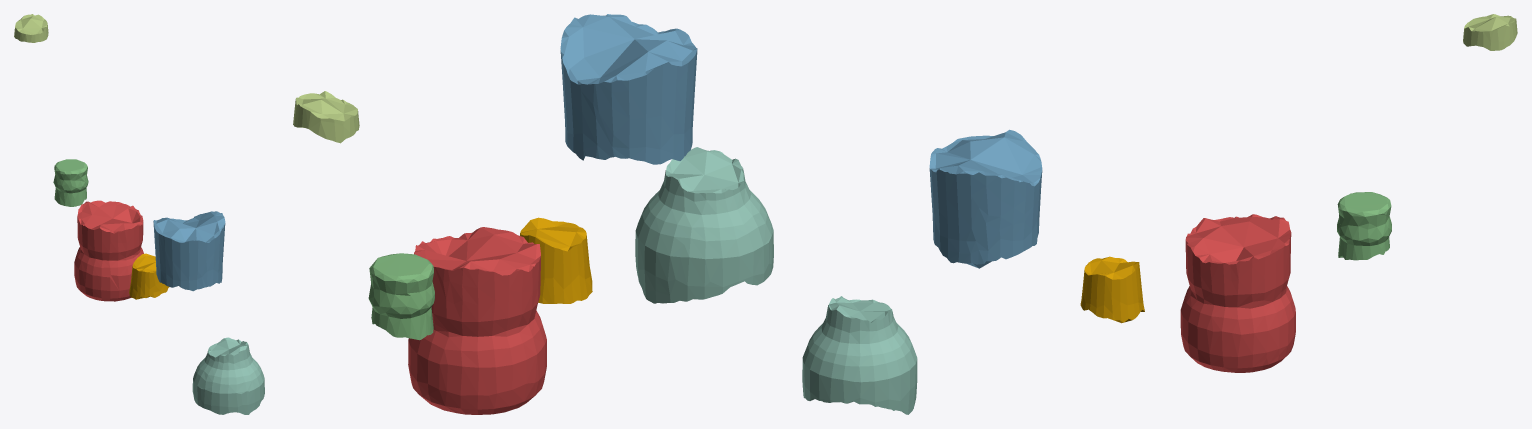
Rendered from fractured_25_6pcs_transformed.glb.
3 renders of one model, left to right at view 1: azimuth 30°, elevation 25°; view 2: azimuth 150°, elevation 25°; view 3: azimuth 270°, elevation 25°, orthographic. The views are drawn at different scales.
Parts seen in each view (by area): view 1: piece_1.obj, piece_2.obj, piece_4.obj, piece_3.obj, piece_0.obj, piece_5.obj; view 2: piece_1.obj, piece_2.obj, piece_4.obj, piece_3.obj, piece_0.obj, piece_5.obj; view 3: piece_1.obj, piece_2.obj, piece_4.obj, piece_0.obj, piece_3.obj, piece_5.obj.
Part boxes in pixels (bbox=[...]): piece_1.obj: bbox=[74, 200, 143, 301]; piece_2.obj: bbox=[153, 211, 225, 291]; piece_4.obj: bbox=[192, 337, 264, 414]; piece_3.obj: bbox=[53, 159, 88, 206]; piece_0.obj: bbox=[129, 253, 169, 299]; piece_5.obj: bbox=[14, 14, 48, 42]; piece_1.obj: bbox=[408, 227, 546, 414]; piece_2.obj: bbox=[560, 14, 697, 164]; piece_4.obj: bbox=[635, 147, 773, 303]; piece_3.obj: bbox=[368, 253, 434, 340]; piece_0.obj: bbox=[520, 217, 592, 303]; piece_5.obj: bbox=[293, 91, 359, 143]; piece_1.obj: bbox=[1180, 214, 1295, 372]; piece_2.obj: bbox=[929, 129, 1042, 268]; piece_4.obj: bbox=[802, 296, 917, 414]; piece_0.obj: bbox=[1080, 256, 1144, 323]; piece_3.obj: bbox=[1337, 192, 1391, 260]; piece_5.obj: bbox=[1463, 14, 1517, 50].
Size of the model in its own units: 0.2746 by 1.02 by 1.7.
